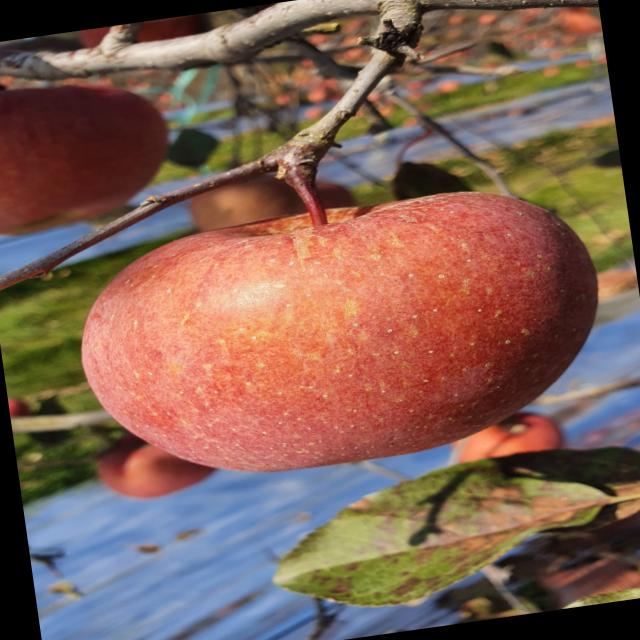fresh: (44, 162, 640, 508)
